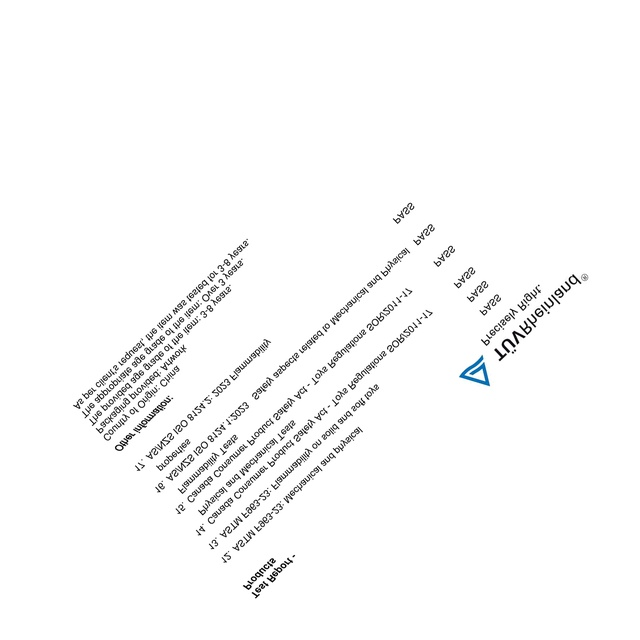tuv_rheinland: (458, 271, 591, 388)
